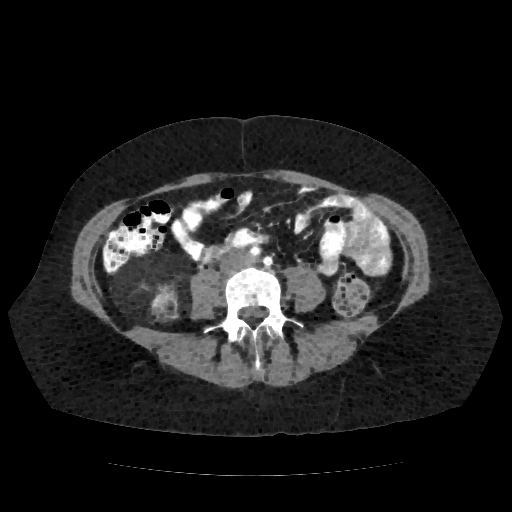Lesion: (102, 260, 194, 326)
